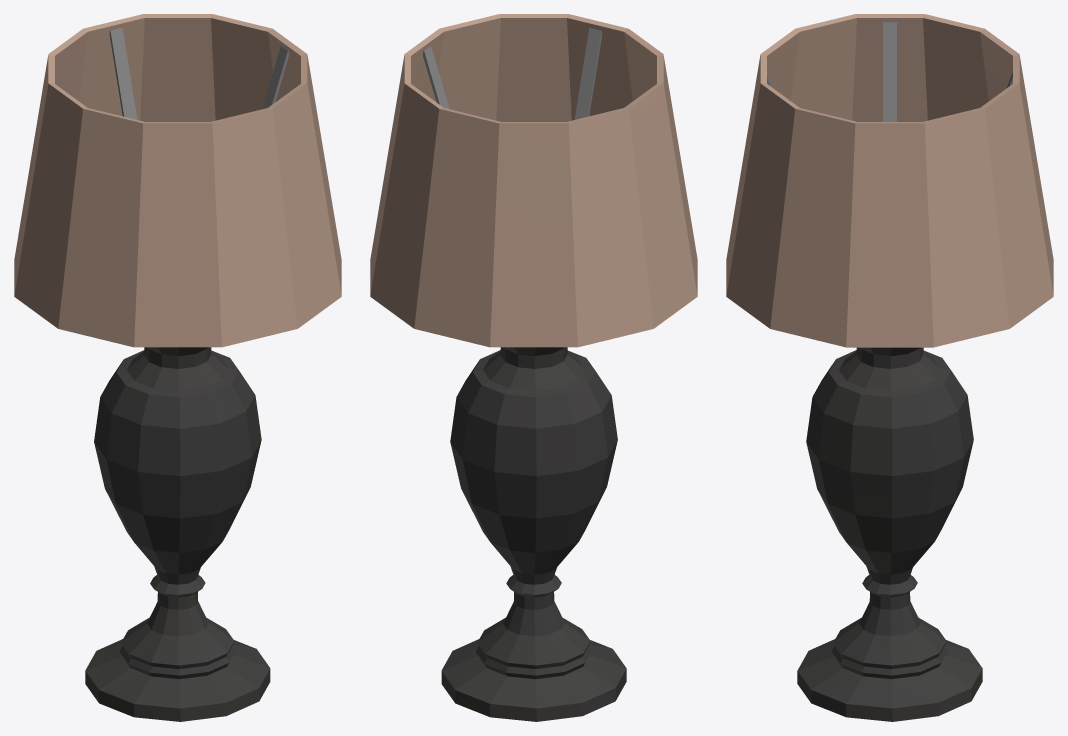
File: floor_lamp.glb
3 renders of one model, left to right at view 1: azimuth 30°, elevation 25°; view 2: azimuth 150°, elevation 25°; view 3: azimuth 270°, elevation 25°, orthographic.
Visible parts, largest first — view 1: Lamp_with_shade; view 2: Lamp_with_shade; view 3: Lamp_with_shade.
Part boxes in pixels (box(x1,y1,x2,y2)): Lamp_with_shade: box(14, 14, 341, 721); Lamp_with_shade: box(370, 14, 697, 721); Lamp_with_shade: box(726, 14, 1053, 721).
Size of the model in its own units: 0.157 by 0.3249 by 0.157.
1 material, 1 textured.
